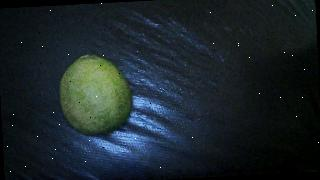DESECHO: (57, 53, 134, 137)
